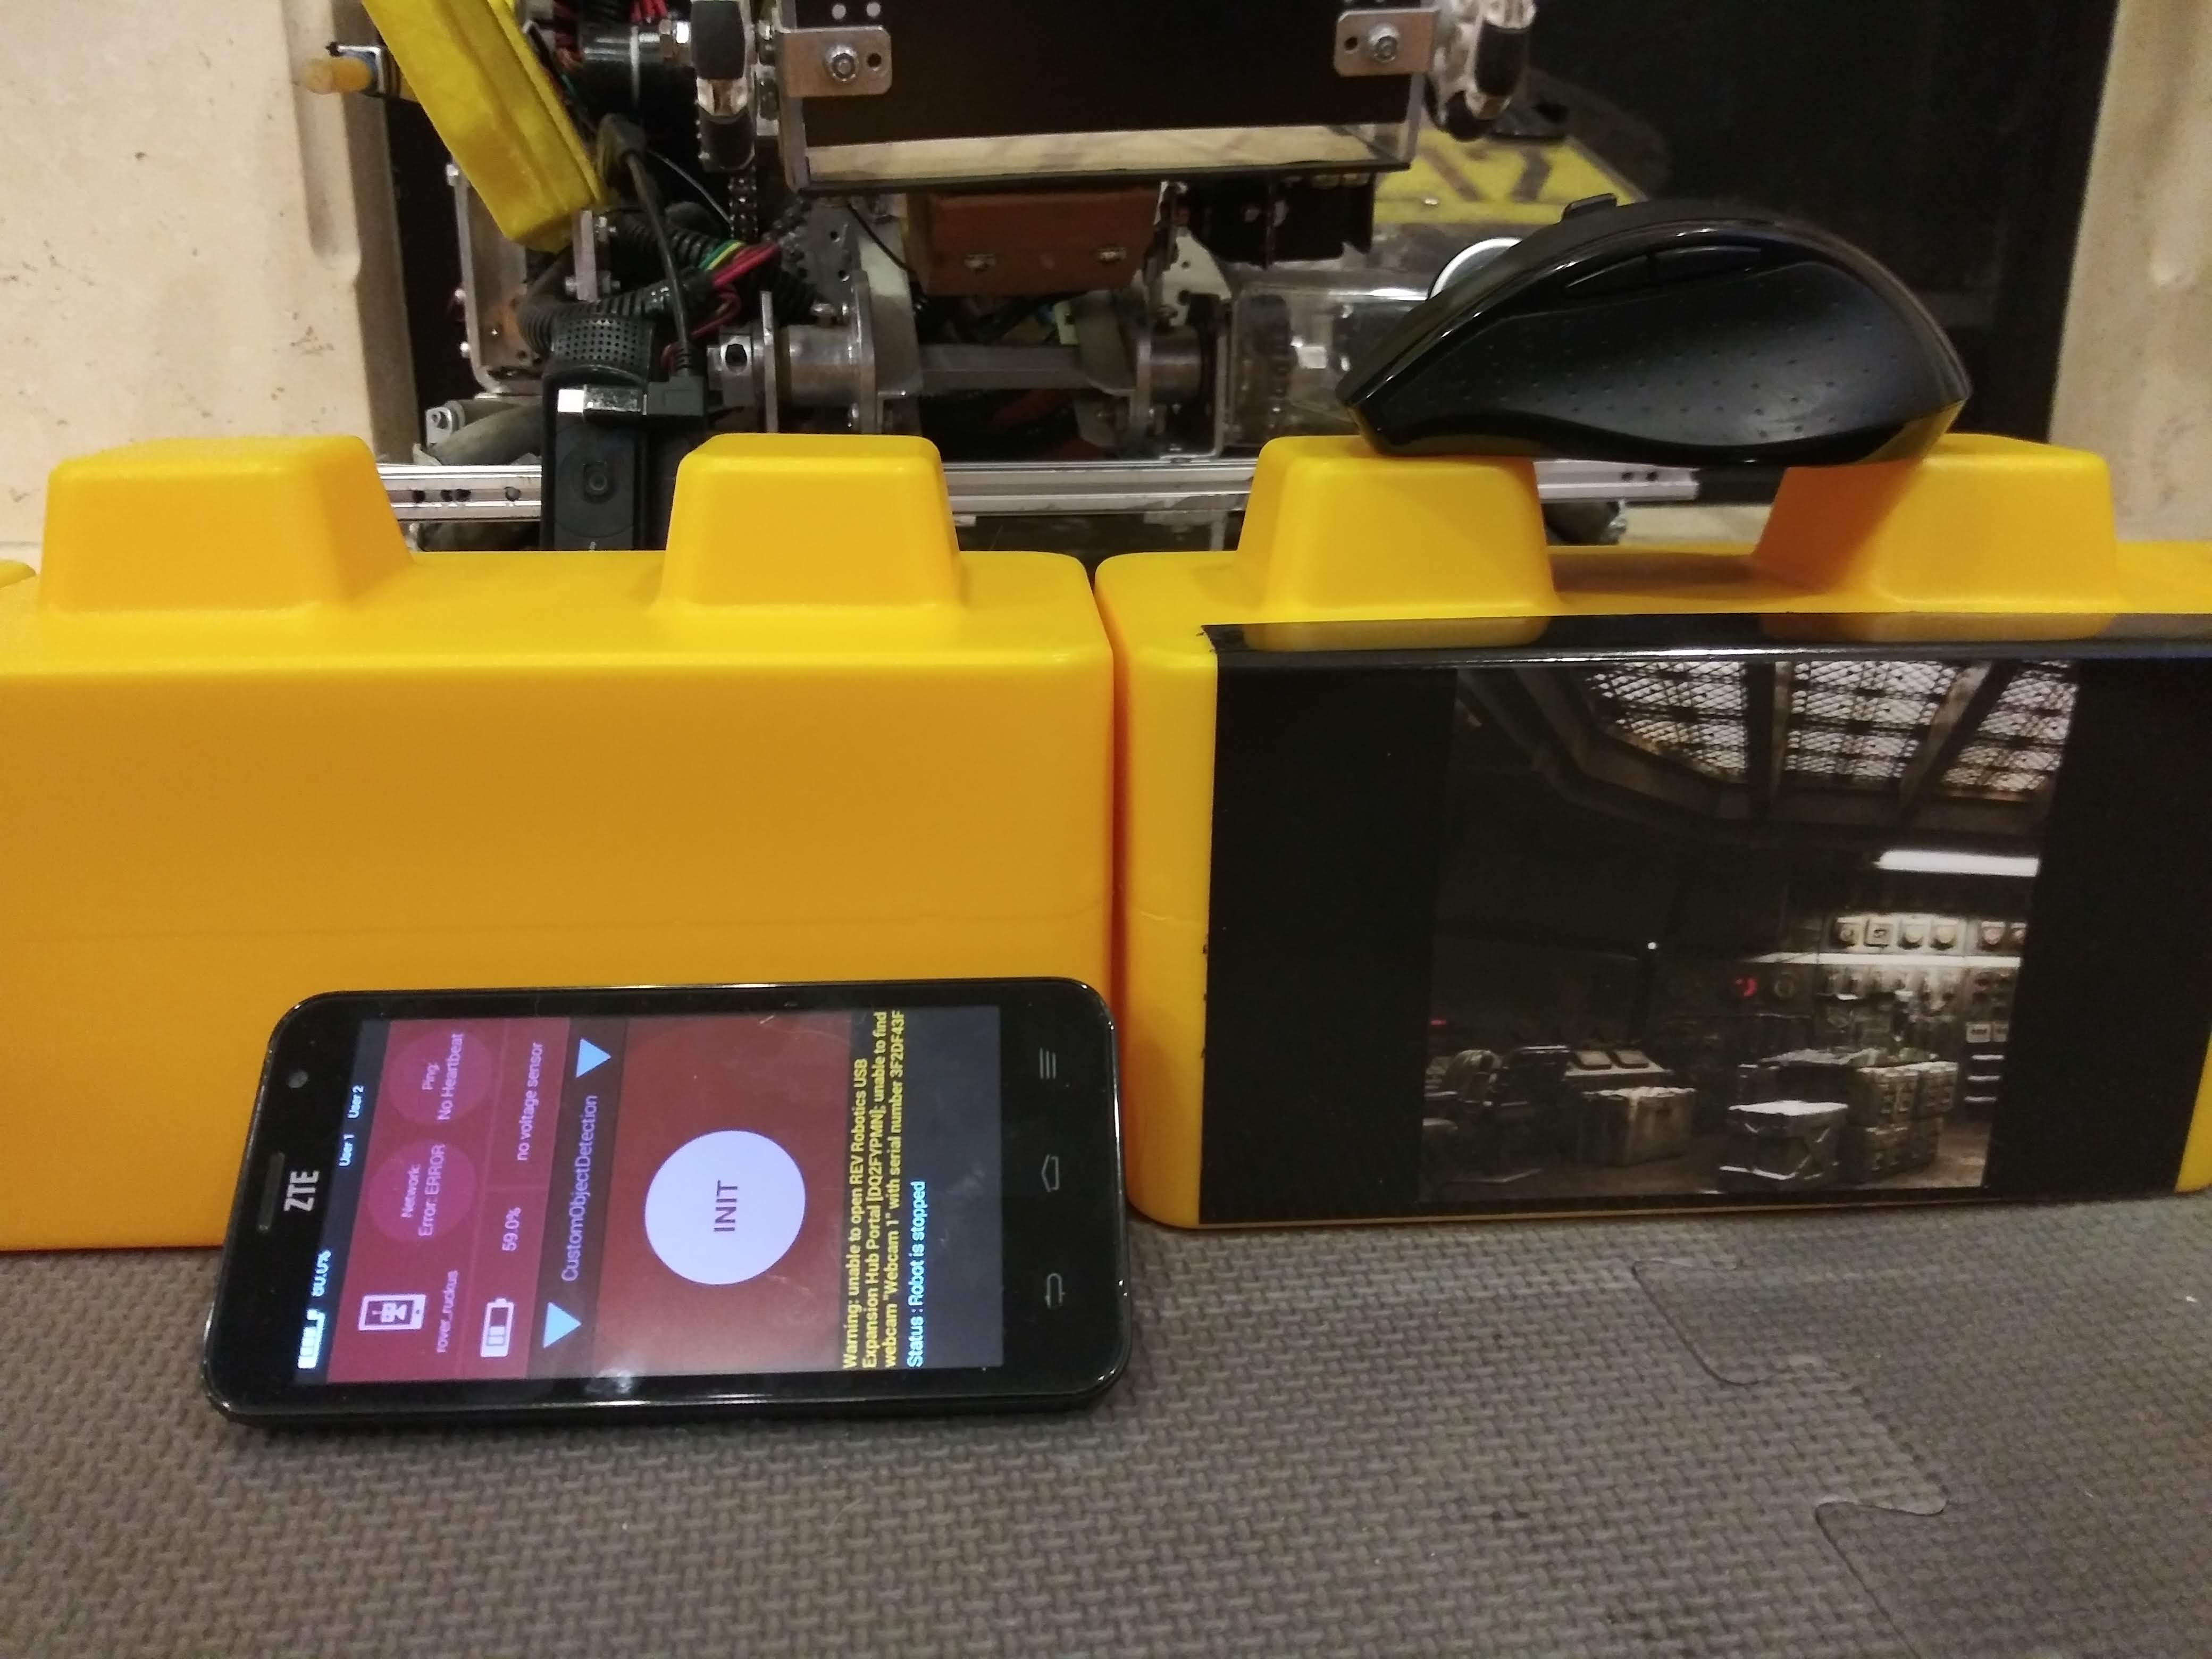skystone: (1137, 575, 2193, 1227)
stone: (26, 481, 1073, 965)
